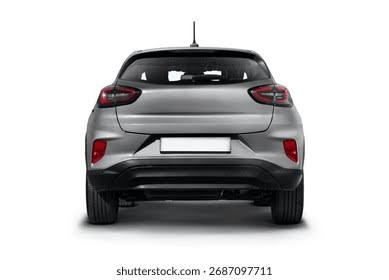car: (84, 38, 309, 229)
